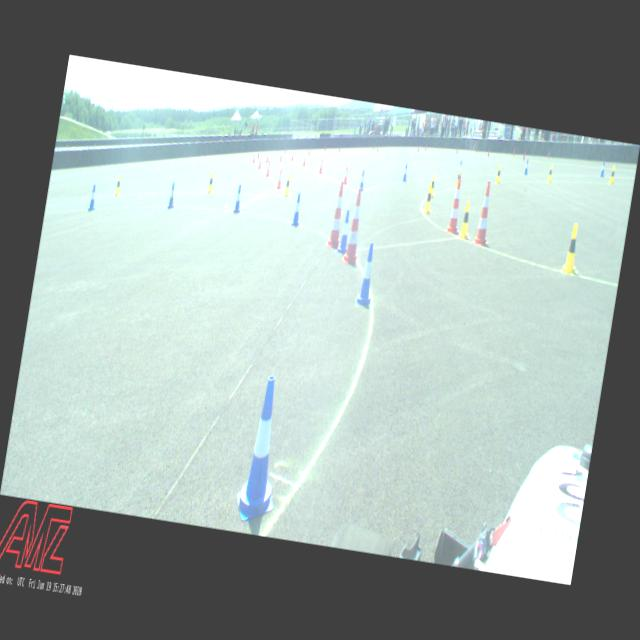blue_cone: (233, 373, 293, 525), (354, 242, 380, 306), (338, 210, 352, 254), (291, 193, 304, 227), (233, 184, 244, 213), (88, 185, 99, 212), (167, 182, 177, 210), (358, 169, 366, 192), (402, 163, 409, 182), (600, 161, 606, 177), (524, 160, 530, 176), (458, 160, 463, 176)
large_orange_cone: (342, 188, 369, 266), (472, 180, 498, 247), (325, 181, 350, 248), (444, 176, 468, 234)
orange_cone: (276, 168, 284, 190), (342, 166, 350, 186), (318, 158, 324, 174), (266, 161, 272, 177), (302, 154, 308, 166), (258, 156, 263, 168), (291, 150, 295, 162), (252, 152, 256, 164), (266, 152, 270, 164), (279, 152, 283, 162)
unknown_cone: (257, 150, 260, 160), (284, 148, 286, 156)
yellow_cone: (560, 222, 584, 276), (457, 200, 475, 240), (423, 183, 436, 214), (283, 172, 293, 198), (428, 174, 438, 198), (207, 172, 216, 194), (114, 175, 122, 198), (608, 165, 616, 185), (495, 164, 502, 184), (455, 169, 462, 189), (546, 165, 554, 182)
